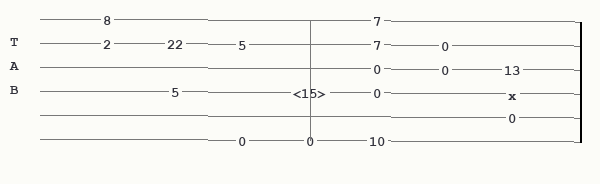0: (238, 134, 250, 147), (306, 134, 318, 147), (373, 62, 385, 75), (373, 86, 385, 99), (441, 38, 453, 51), (441, 62, 453, 75), (508, 110, 520, 123)
10: (369, 134, 389, 147)
13: (504, 62, 524, 75)
2: (103, 38, 115, 51)
22: (167, 38, 187, 51)
5: (171, 86, 183, 99), (238, 38, 250, 51)
7: (373, 14, 385, 27), (373, 38, 385, 51)
8: (103, 14, 115, 27)
harmonic: (293, 86, 331, 99)
x: (508, 87, 521, 97)
